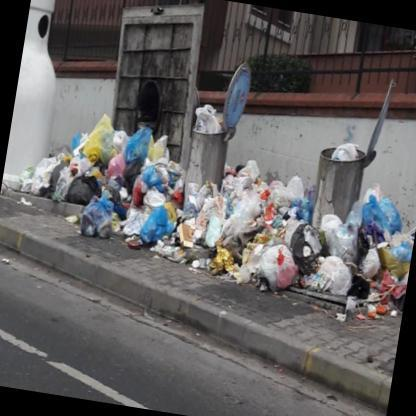Garbage: (225, 177, 294, 264), (20, 140, 79, 205), (268, 246, 332, 302), (340, 281, 398, 336), (352, 188, 403, 250), (224, 192, 276, 236), (328, 223, 368, 268), (138, 201, 174, 249), (223, 150, 264, 192), (187, 230, 228, 272), (226, 182, 260, 230), (117, 122, 155, 164), (152, 233, 193, 268), (294, 223, 324, 268), (137, 129, 170, 168), (78, 199, 113, 234), (122, 204, 152, 244), (271, 172, 298, 209), (80, 127, 112, 158), (390, 231, 414, 270), (192, 103, 220, 132), (330, 141, 358, 162)
